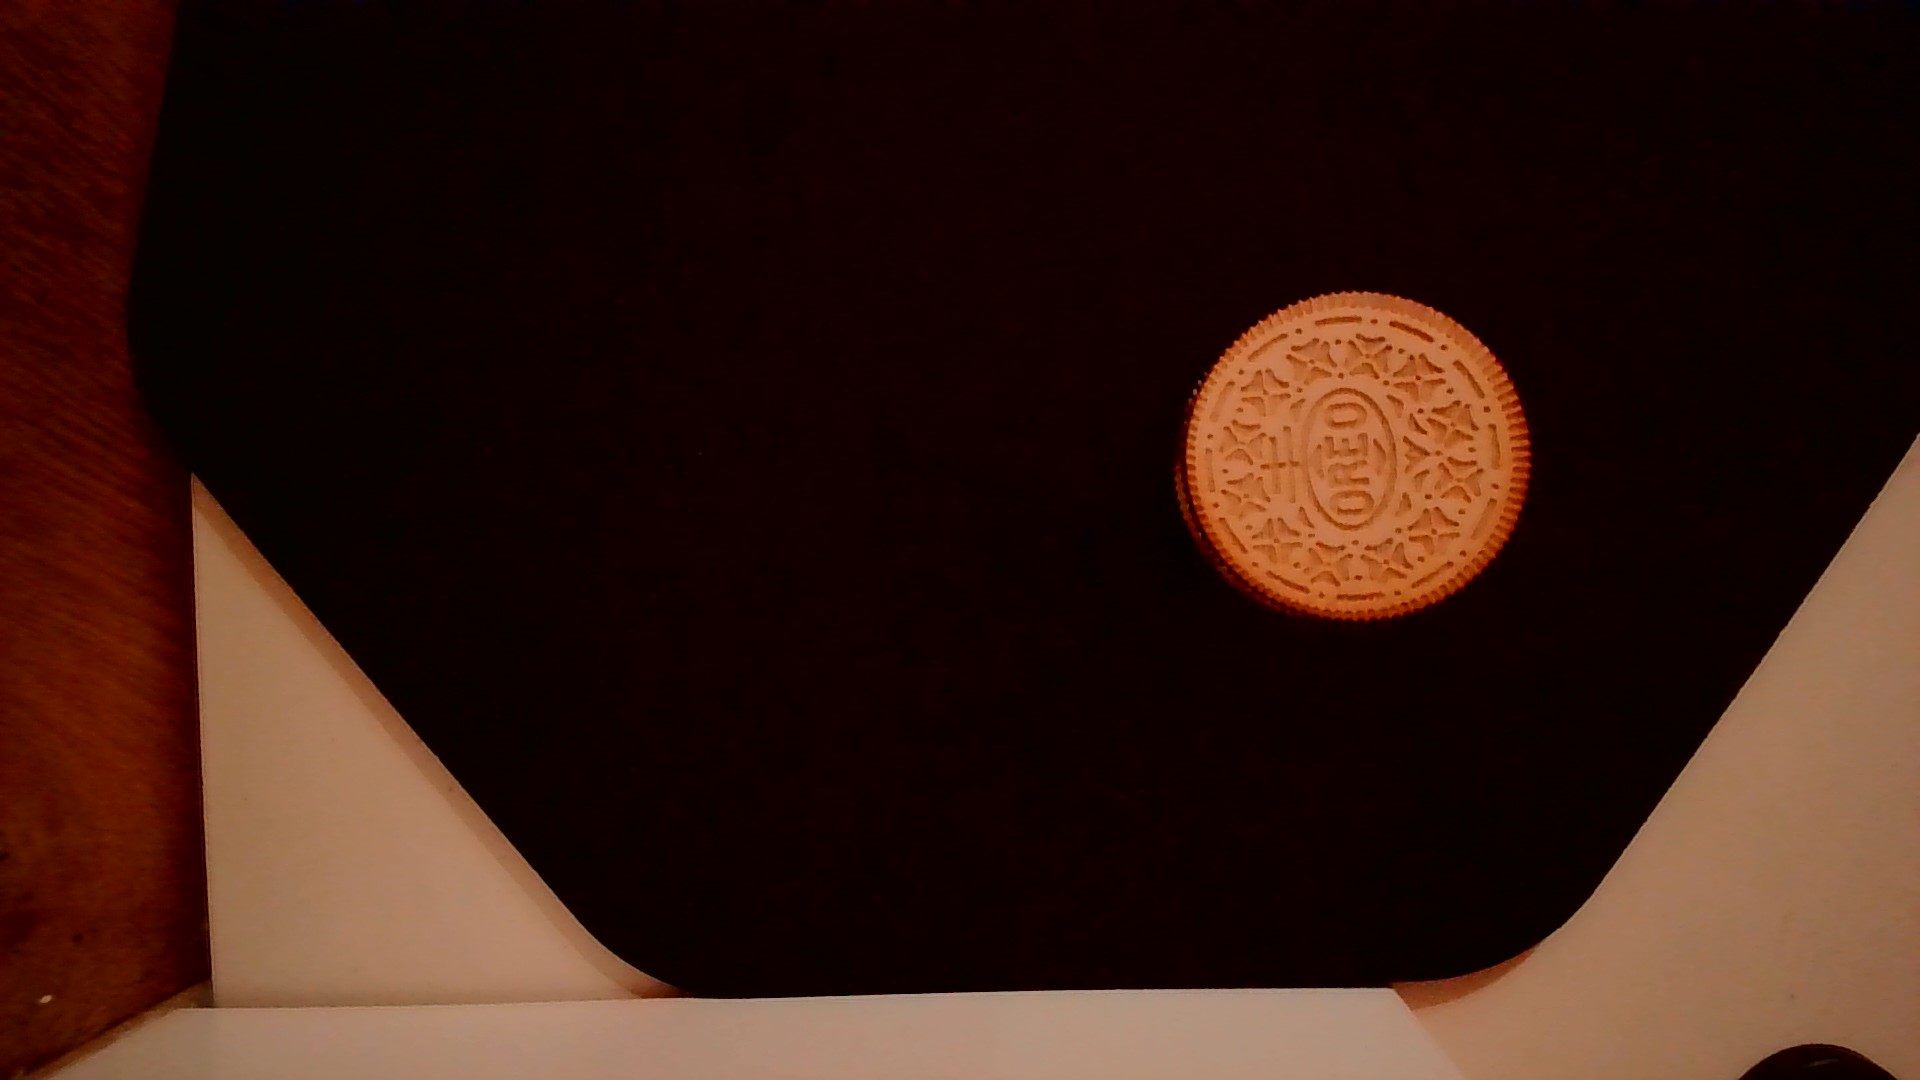Oréo: (1167, 281, 1543, 632)
